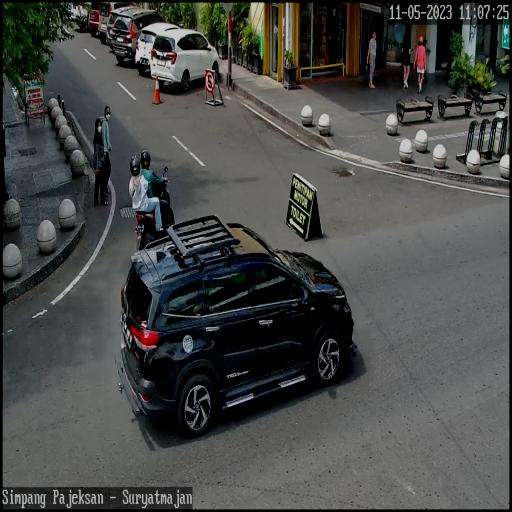mobil: (115, 211, 358, 442), (149, 26, 220, 92), (110, 8, 170, 64), (134, 18, 185, 77)
motor: (134, 177, 177, 251)
